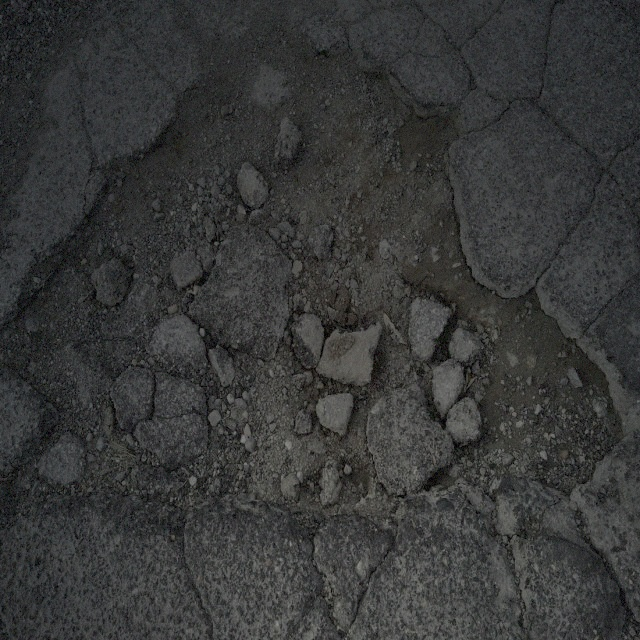pothole: (16, 52, 615, 550)
